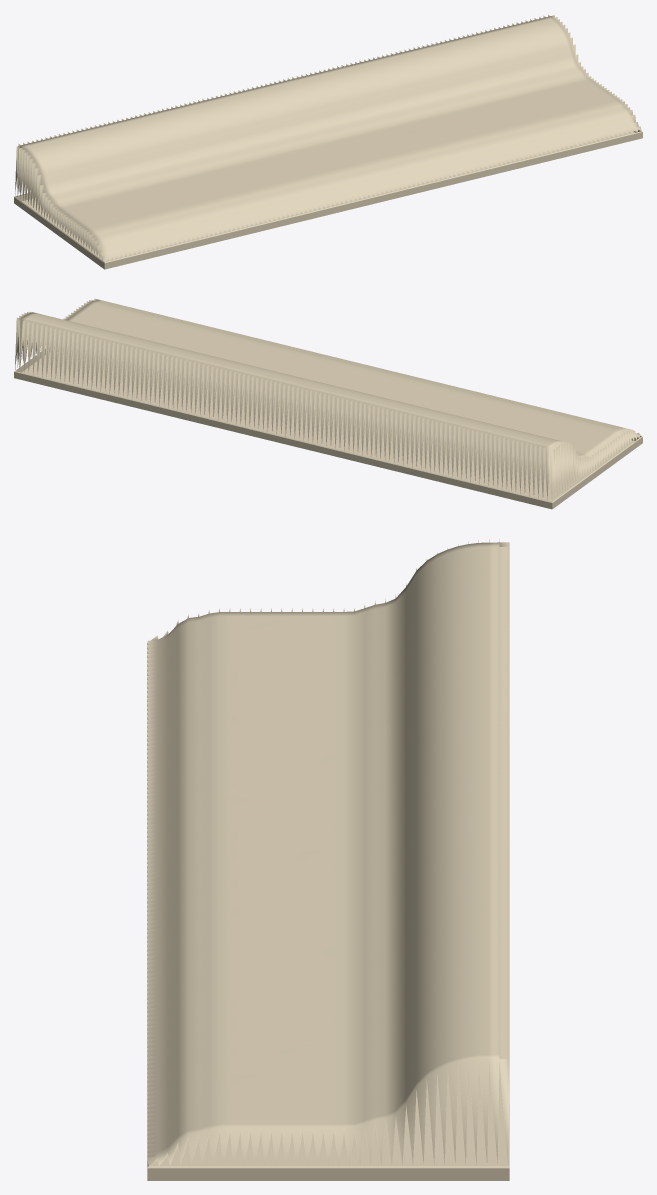
The model's file is mahsulot.glb.
3 views of the same model, one above another, from view 1: azimuth 30°, elevation 25°; view 2: azimuth 150°, elevation 25°; view 3: azimuth 270°, elevation 25° (orthographic). The views are drawn at different scales.
Parts seen in each view (by area): view 1: mahsulot; view 2: mahsulot; view 3: mahsulot.
Boxes of the visible parts, x1,y1,x2,y2 form: mahsulot: (14, 14, 642, 269); mahsulot: (14, 298, 642, 509); mahsulot: (147, 539, 509, 1180).
Size of the model in its own units: 1.2 by 0.1251 by 0.35.
